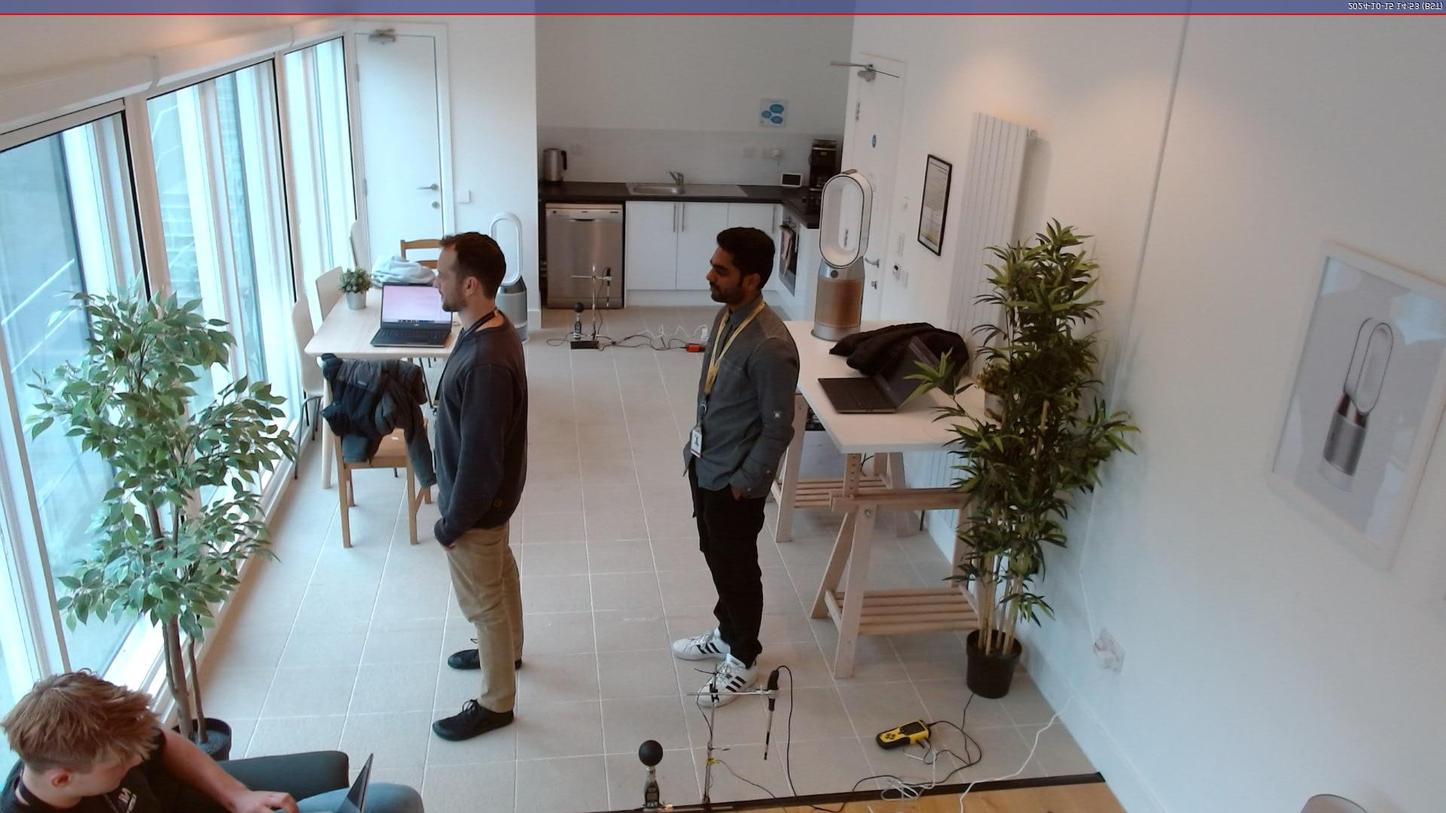long sleeve shirt: (679, 296, 798, 495)
short sleeve shirt: (0, 721, 169, 813)
sweater: (427, 309, 531, 548)
trousers: (444, 514, 527, 716), (690, 473, 770, 669), (276, 778, 425, 813)
